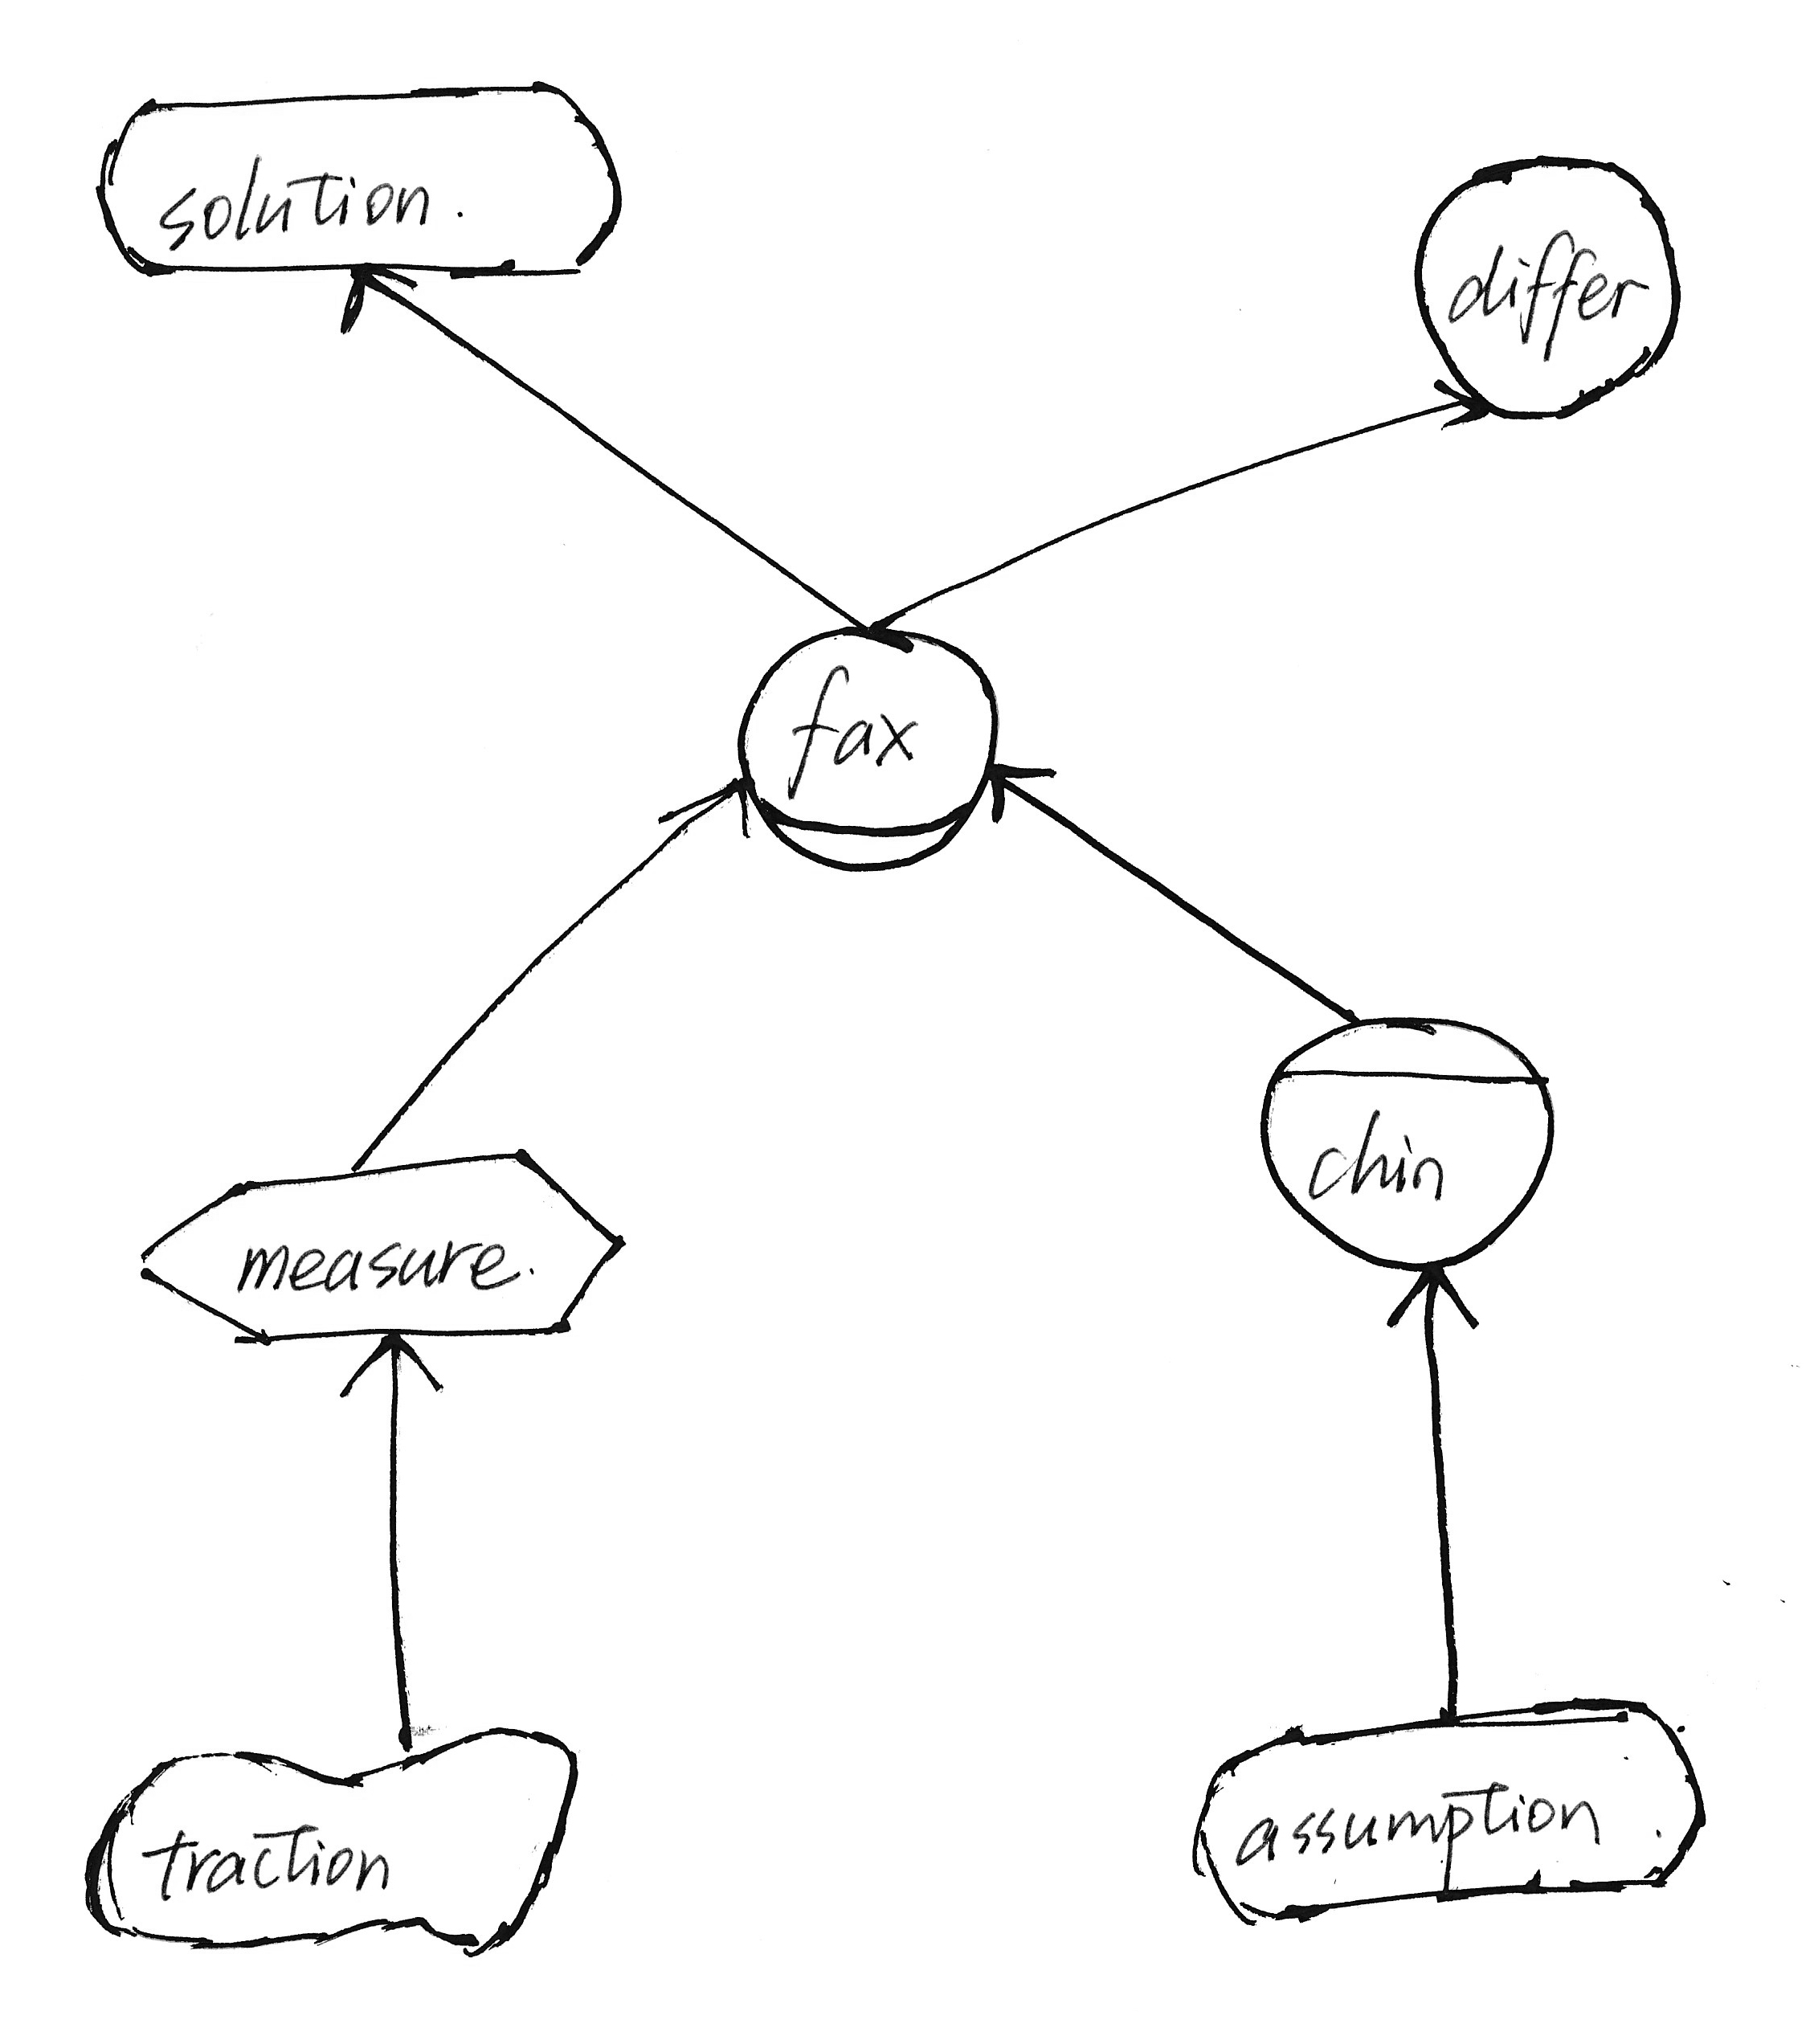actor: (1396, 138, 1700, 435)
agent: (1240, 991, 1578, 1288)
arrow: (1373, 1249, 1497, 1352), (650, 762, 765, 853), (335, 1321, 452, 1406), (971, 739, 1071, 833), (332, 253, 430, 342), (1429, 369, 1497, 452)
goal: (1165, 1677, 1726, 1929), (73, 59, 641, 299)
quality: (68, 1712, 604, 1964)
role: (723, 606, 1019, 887)
task: (119, 1127, 636, 1361)
